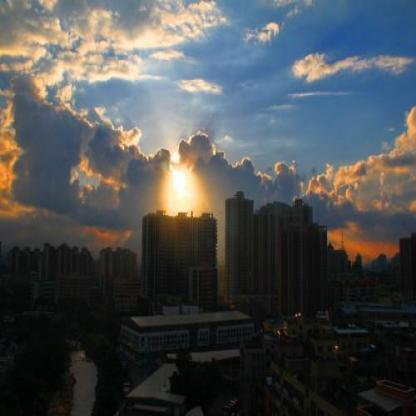other: (148, 136, 216, 228)
